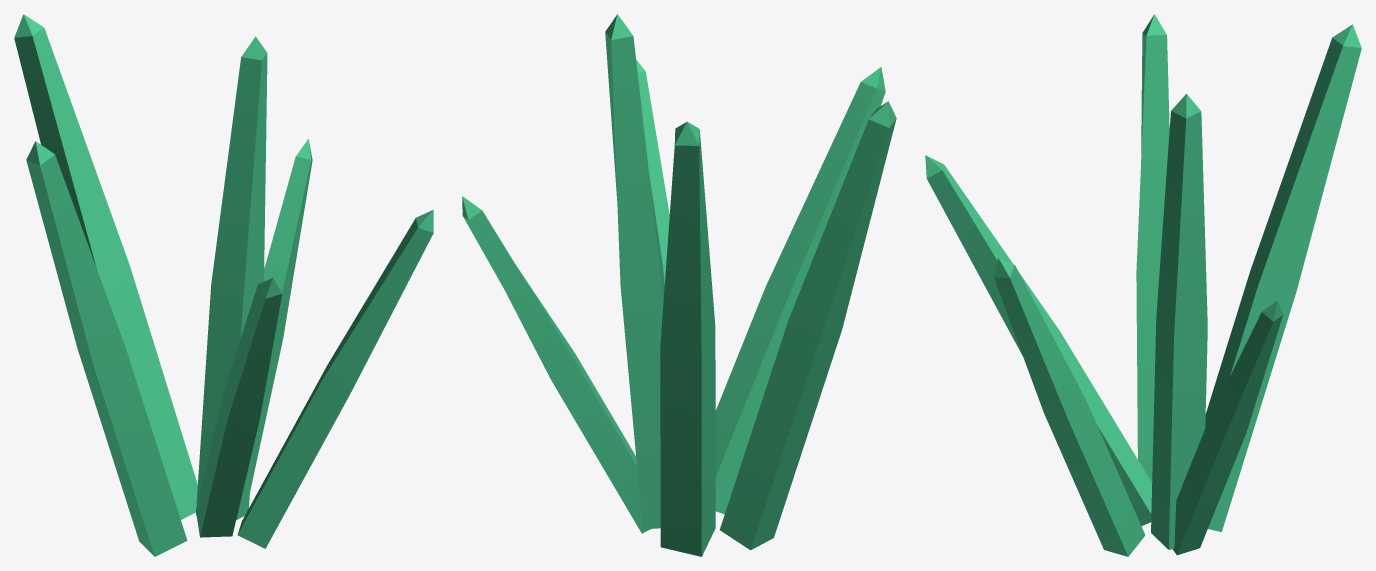
File: coral_diamonds_A_ultralight.fbx
The picture shows the model from 3 angles, left to right: view 1: azimuth 30°, elevation 25°; view 2: azimuth 150°, elevation 25°; view 3: azimuth 270°, elevation 25°; orthographic projection. The views are drawn at different scales.
Visible parts, largest first — view 1: coral_diamonds_A_ultralight_B, coral_diamonds_A_ultralight_D, coral_diamonds_A_ultralight_A, coral_diamonds_A_ultralight_E, coral_diamonds_A_ultralight_C, coral_diamonds_A_ultralight_F; view 2: coral_diamonds_A_ultralight_B, coral_diamonds_A_ultralight_D, coral_diamonds_A_ultralight_A, coral_diamonds_A_ultralight_C, coral_diamonds_A_ultralight_F, coral_diamonds_A_ultralight_E; view 3: coral_diamonds_A_ultralight_A, coral_diamonds_A_ultralight_D, coral_diamonds_A_ultralight_E, coral_diamonds_A_ultralight_B, coral_diamonds_A_ultralight_F, coral_diamonds_A_ultralight_C.
Part boxes in pixels (box(x1,y1,x2,y2)): coral_diamonds_A_ultralight_B: box(26, 141, 187, 556); coral_diamonds_A_ultralight_D: box(14, 14, 197, 519); coral_diamonds_A_ultralight_A: box(196, 36, 267, 519); coral_diamonds_A_ultralight_E: box(237, 210, 433, 548); coral_diamonds_A_ultralight_C: box(196, 278, 282, 537); coral_diamonds_A_ultralight_F: box(250, 139, 312, 491); coral_diamonds_A_ultralight_B: box(719, 101, 896, 550); coral_diamonds_A_ultralight_D: box(660, 121, 715, 556); coral_diamonds_A_ultralight_A: box(605, 14, 664, 529); coral_diamonds_A_ultralight_C: box(715, 67, 885, 514); coral_diamonds_A_ultralight_F: box(462, 196, 650, 533); coral_diamonds_A_ultralight_E: box(636, 59, 669, 283); coral_diamonds_A_ultralight_A: box(1151, 94, 1207, 549); coral_diamonds_A_ultralight_D: box(1205, 24, 1361, 531); coral_diamonds_A_ultralight_E: box(994, 257, 1145, 556); coral_diamonds_A_ultralight_B: box(1136, 14, 1169, 482); coral_diamonds_A_ultralight_F: box(1172, 300, 1283, 555); coral_diamonds_A_ultralight_C: box(925, 155, 1152, 526).
Bounding box in the file's own units: 42.24 × 56.04 × 47.01.
